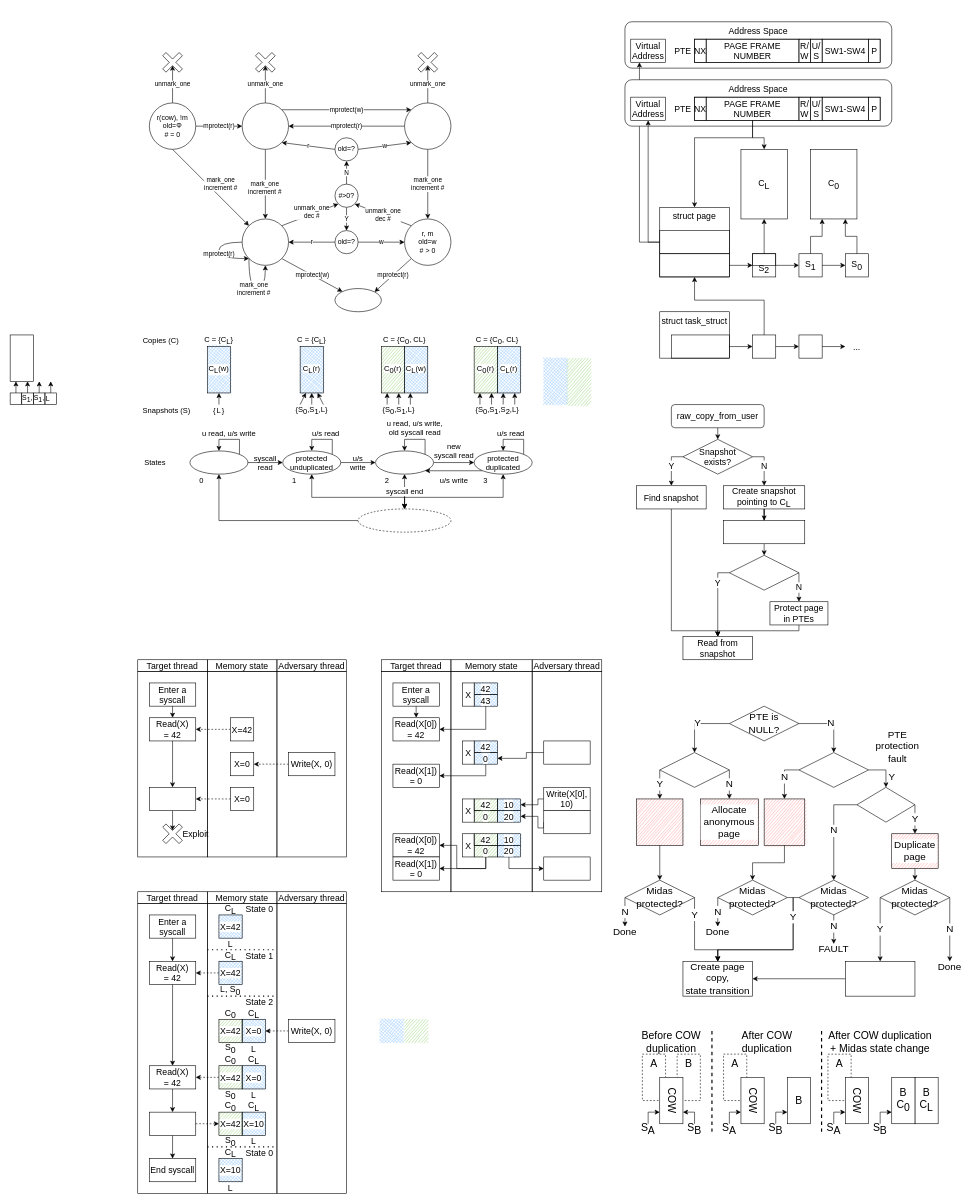
The diagram is 972 pixels wide and 1204 high, and some of its shapes have lost their labels. Here are the shapes that lost their labels. From the top down, the centre of each, then its label:
point (265, 125): r, !m old= Φ # = 0
point (427, 125): w, !m old= Φ # = 0
point (265, 241): r, m old= r # > 0
point (694, 242): reverse-map (rmap)
point (764, 259): copy
point (694, 265): snapshots list
point (357, 300): wait
point (700, 346): protected pages list
point (218, 462): unprotected unduplicated
point (404, 462): unprotected duplicated
point (404, 520): release snapshots/copies
point (764, 532): Add page to those read by this syscall
point (764, 572): Page protected?
point (566, 752): Write(X[1], 0)
point (694, 769): File-backed page?
point (833, 769): Page present?
point (172, 799): Read(X) = 0
point (885, 804): COW page?
point (566, 822): Write(X[1], 20)
point (659, 821): Allocate page from file
point (784, 821): Swap-in page
point (566, 868): Read(X[1]) = 20
point (880, 978): Move snapshots to correct page
point (172, 1123): Write(X, 10)
